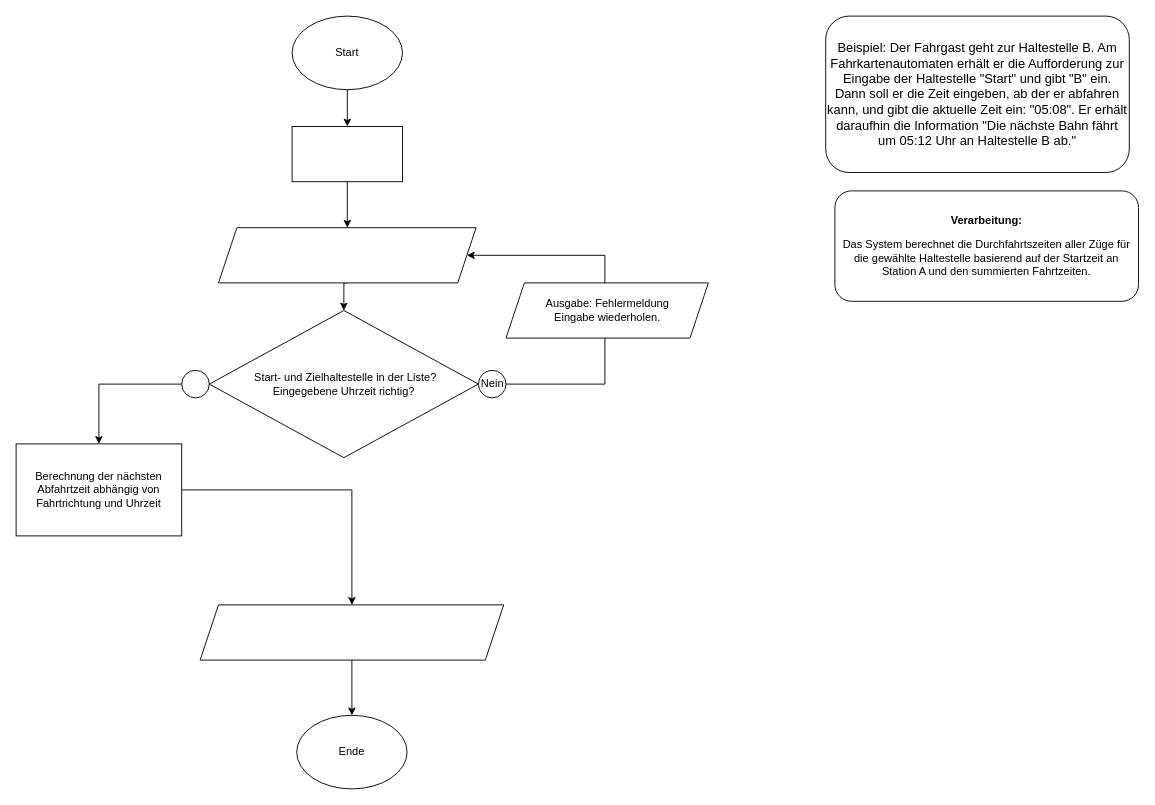
Some shapes in this 1155 by 805 pixel diagram are drawn without their labels. The centre of each missing label's shape, as x and y in pixels:
Ausgabe: Nächste Abfahrtszeit von der eingegebenen Haltestelle: pixel 351 632
Eingabe: Starthaltestelle + Zielhaltestelle + Abfahrtszeit: pixel 347 255
Ja: pixel 195 383
Lade Haltestellenliste: pixel 346 154
